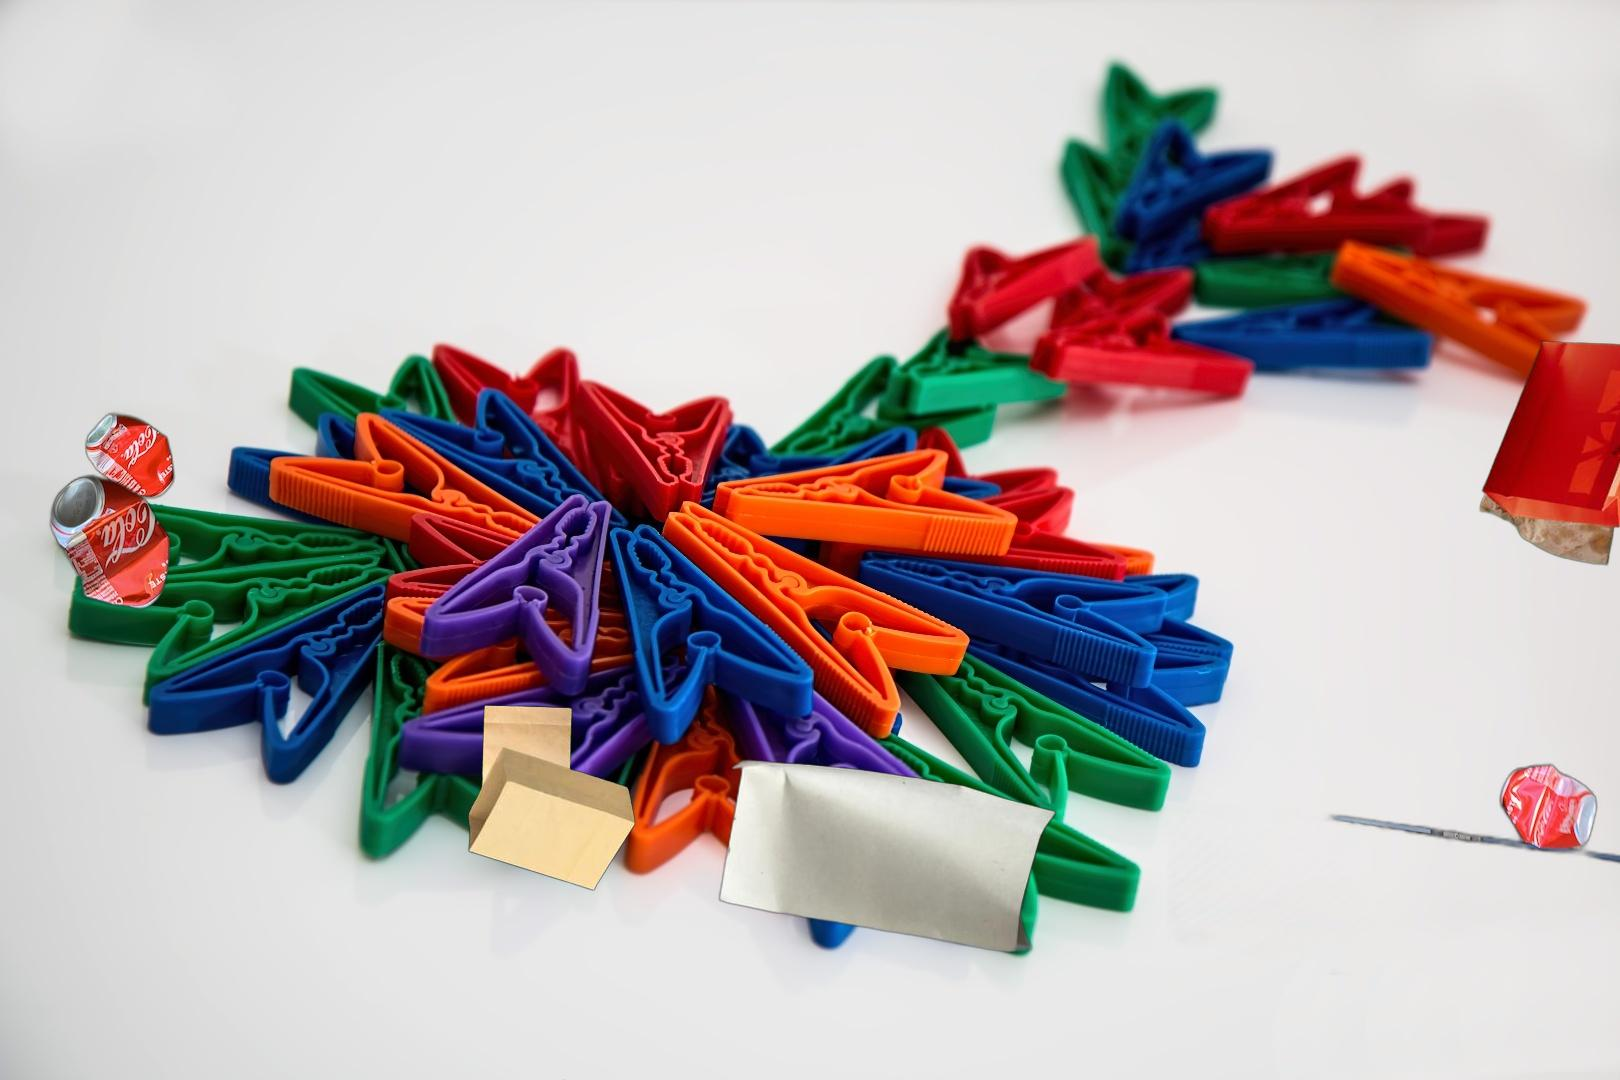metal-cans: (1167, 744, 1620, 975), (81, 407, 329, 729), (46, 470, 175, 616)
paper: (714, 756, 1060, 956)
paper-bag: (465, 699, 636, 893), (1478, 337, 1620, 568), (493, 1078, 742, 1080)
